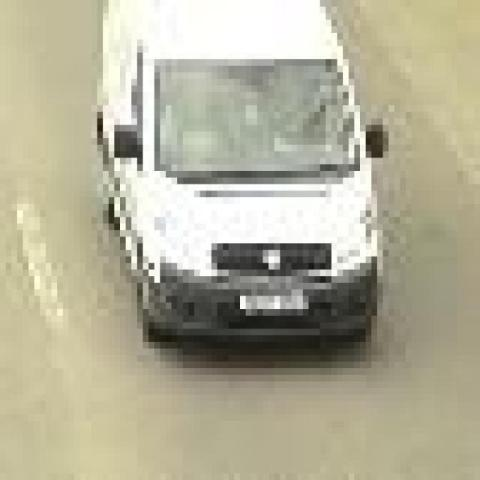van: (103, 0, 377, 349)
